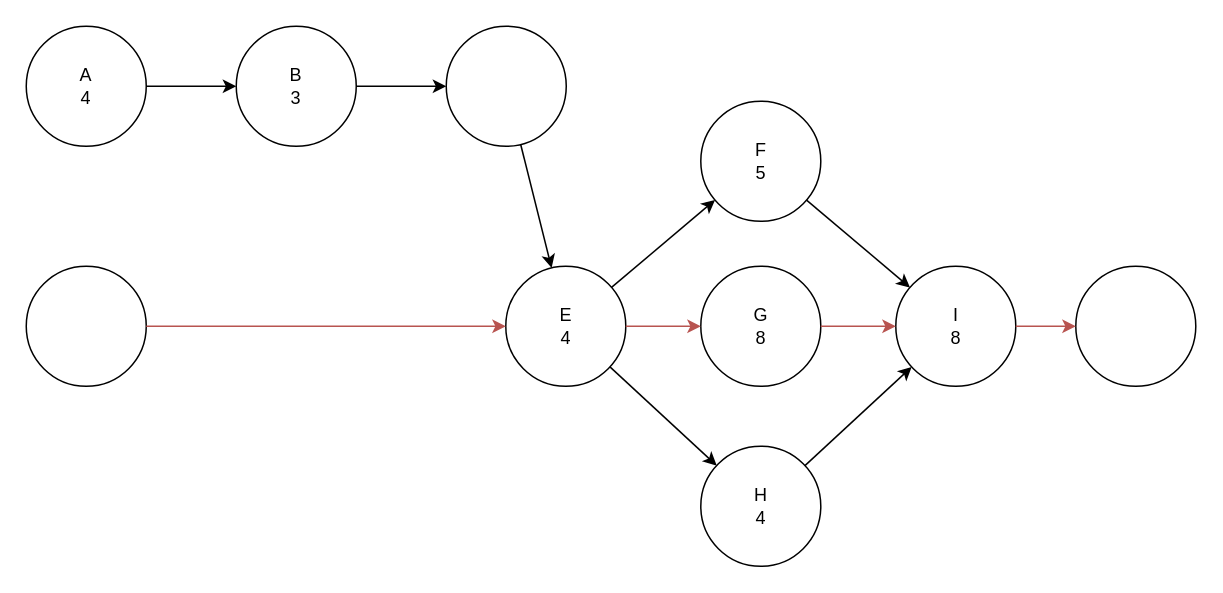
The diagram is 1223 pixels wide and 593 high, and some of its shapes have lost their labels. Here are the shapes that lost their labels. From the top down, the box of each, then its label:
(445, 25, 566, 146): C 2
(25, 265, 146, 386): D 12
(1074, 265, 1196, 386): J 6
